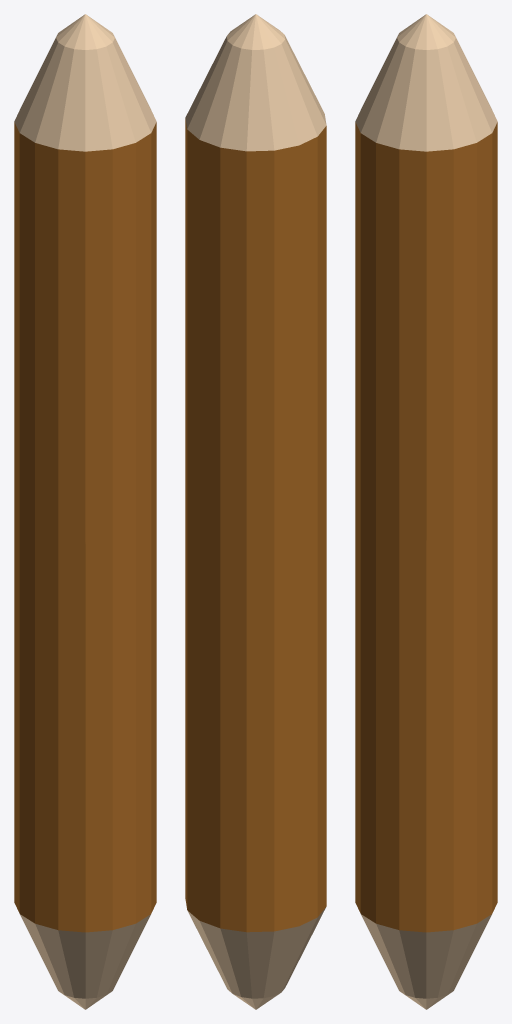
File: BrokenTree.fbx
3 renders of one model, left to right at view 1: azimuth 90°, elevation 25°; view 2: azimuth 150°, elevation 25°; view 3: azimuth 270°, elevation 25°, orthographic.
Visible parts, largest first — view 1: BrokenTree; view 2: BrokenTree; view 3: BrokenTree.
Part boxes in pixels (x1,y1,x2,y2): BrokenTree: (14,14,156,1009); BrokenTree: (185,14,326,1009); BrokenTree: (355,14,497,1009).
Size of the model in its own units: 90 by 694 by 90.
